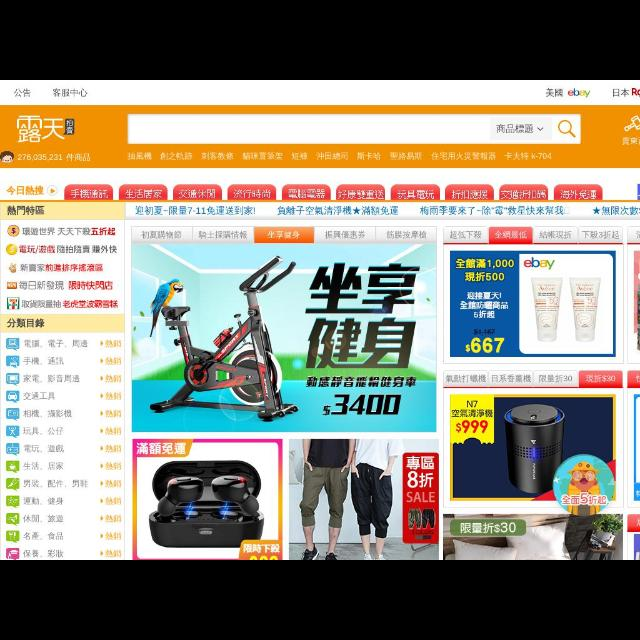icon: (15, 110, 76, 144), (619, 111, 639, 132), (558, 120, 578, 138), (94, 546, 106, 558), (96, 392, 108, 402), (48, 185, 58, 195), (98, 374, 106, 384), (97, 513, 107, 521), (96, 530, 104, 540), (99, 409, 105, 419), (99, 426, 105, 436), (98, 495, 104, 505), (98, 480, 105, 488), (539, 125, 545, 133), (98, 339, 104, 347), (99, 357, 105, 365), (100, 442, 104, 454), (98, 463, 106, 469)
iframe: (132, 226, 438, 434), (444, 226, 640, 390), (445, 394, 625, 558), (288, 435, 438, 559), (134, 437, 284, 559), (629, 394, 635, 558)
image: (7, 296, 23, 310), (4, 240, 16, 256), (6, 222, 20, 235), (5, 373, 18, 385), (6, 338, 20, 349), (6, 356, 20, 366), (6, 390, 20, 400), (10, 512, 20, 526), (4, 282, 20, 290), (5, 146, 12, 164), (6, 443, 18, 453), (7, 480, 21, 488), (8, 263, 16, 277), (8, 408, 18, 419), (6, 426, 18, 434), (6, 550, 20, 556), (8, 462, 16, 472), (8, 497, 18, 505), (8, 533, 20, 539)
input: (132, 225, 436, 430), (128, 114, 584, 144)
multitab: (2, 168, 638, 202), (129, 204, 639, 218)
panel: (2, 202, 128, 558), (1, 82, 640, 105)
spinner: (493, 119, 551, 137)
text: (418, 206, 566, 218), (136, 205, 258, 218), (276, 206, 402, 218), (23, 295, 119, 309), (23, 224, 117, 238), (22, 244, 116, 256), (21, 264, 104, 276), (23, 368, 83, 384), (21, 282, 117, 292), (21, 150, 91, 162), (26, 336, 90, 349), (25, 476, 91, 488), (546, 86, 594, 100), (433, 150, 499, 160), (50, 84, 91, 100), (6, 315, 50, 329), (6, 182, 44, 198), (27, 528, 65, 544), (504, 148, 554, 160), (160, 148, 196, 164), (591, 203, 639, 215), (26, 494, 66, 508), (24, 410, 78, 420), (7, 82, 35, 101), (26, 426, 70, 438), (200, 149, 236, 163), (242, 150, 284, 162), (24, 512, 66, 524), (26, 355, 68, 367), (8, 204, 49, 216), (610, 86, 640, 102), (25, 445, 71, 455), (390, 150, 426, 162), (24, 390, 60, 402), (356, 148, 382, 164), (72, 188, 110, 198), (26, 462, 68, 471), (497, 123, 533, 133), (317, 150, 351, 160), (128, 148, 154, 160), (28, 550, 66, 558), (105, 354, 124, 366), (107, 408, 125, 420), (106, 530, 124, 542), (619, 136, 639, 146), (105, 460, 123, 470), (290, 150, 312, 158), (107, 497, 123, 508), (106, 338, 122, 348), (106, 425, 122, 435), (106, 443, 122, 452), (107, 391, 121, 401), (106, 479, 122, 487), (106, 512, 122, 520), (108, 548, 124, 556), (110, 376, 124, 384)
textbutton: (66, 182, 114, 200), (394, 185, 442, 202), (555, 185, 601, 202), (501, 184, 547, 200), (286, 184, 330, 200), (338, 186, 384, 200), (447, 186, 493, 200), (178, 186, 220, 200), (121, 186, 167, 198), (230, 186, 276, 198)
toolbar: (3, 106, 639, 168)
